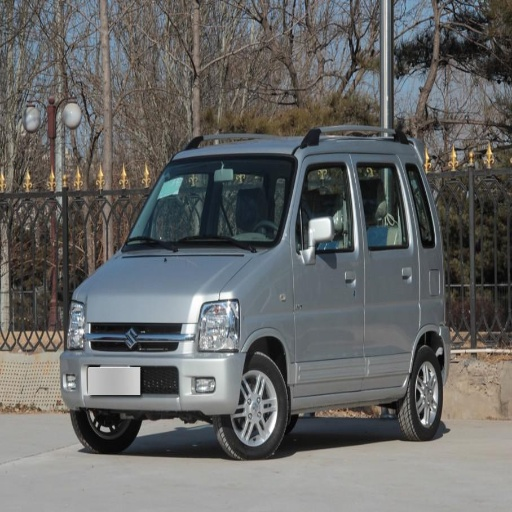front_bumper: (59, 296, 245, 418)
front_glass: (124, 155, 295, 253)
front_left_door: (293, 160, 364, 394)
